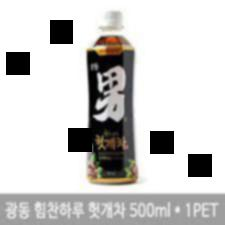heotgaecha: (86, 8, 138, 185)
